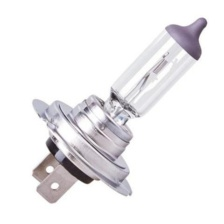light_bulb: (21, 14, 210, 206)
